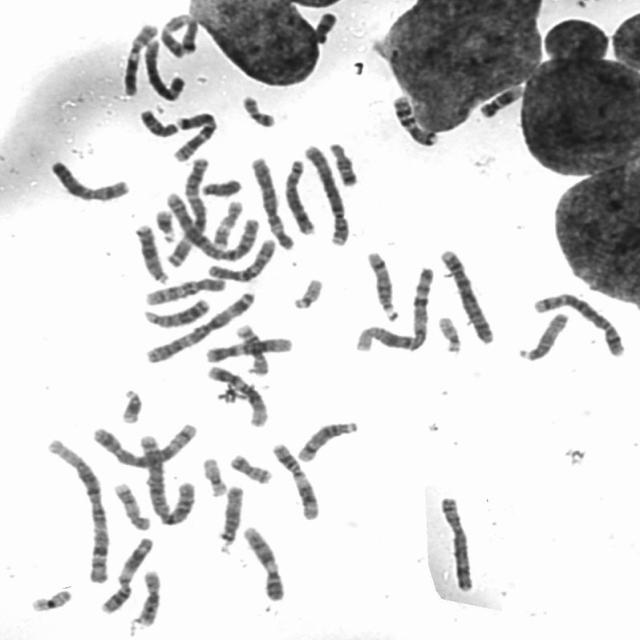A1: (40, 433, 112, 585), (349, 260, 437, 354)
A2: (161, 186, 265, 264), (133, 428, 199, 526)
A3: (140, 284, 260, 365), (163, 151, 212, 269)
B4: (436, 242, 498, 346), (299, 138, 352, 247)
B5: (528, 286, 628, 358), (86, 416, 200, 469)
C10: (203, 232, 279, 283), (139, 271, 228, 306)
C11: (96, 531, 156, 615), (266, 437, 322, 521)
C12: (201, 359, 271, 428), (201, 331, 295, 364)
C6: (245, 151, 298, 252), (138, 34, 188, 102)
C7: (167, 105, 221, 163), (152, 13, 205, 63)
C8: (433, 489, 477, 593), (278, 153, 318, 236)
C9: (237, 519, 288, 603), (122, 20, 161, 96)
D13: (130, 218, 172, 284), (138, 292, 212, 329)
D14: (292, 415, 362, 463), (361, 244, 401, 323)
D15: (513, 307, 572, 363), (212, 480, 245, 551)
E16: (235, 321, 273, 377), (132, 564, 164, 628)
E17: (108, 476, 153, 532), (207, 194, 245, 249)
E18: (323, 136, 361, 188), (135, 103, 180, 138)
F19: (197, 451, 230, 498), (25, 584, 74, 613)
F20: (224, 448, 275, 486), (236, 88, 279, 128)
G21: (115, 382, 145, 425), (150, 203, 180, 244)
G22: (287, 272, 327, 310), (432, 310, 464, 354)
X: (44, 154, 133, 203)
Y: (196, 172, 244, 198)
